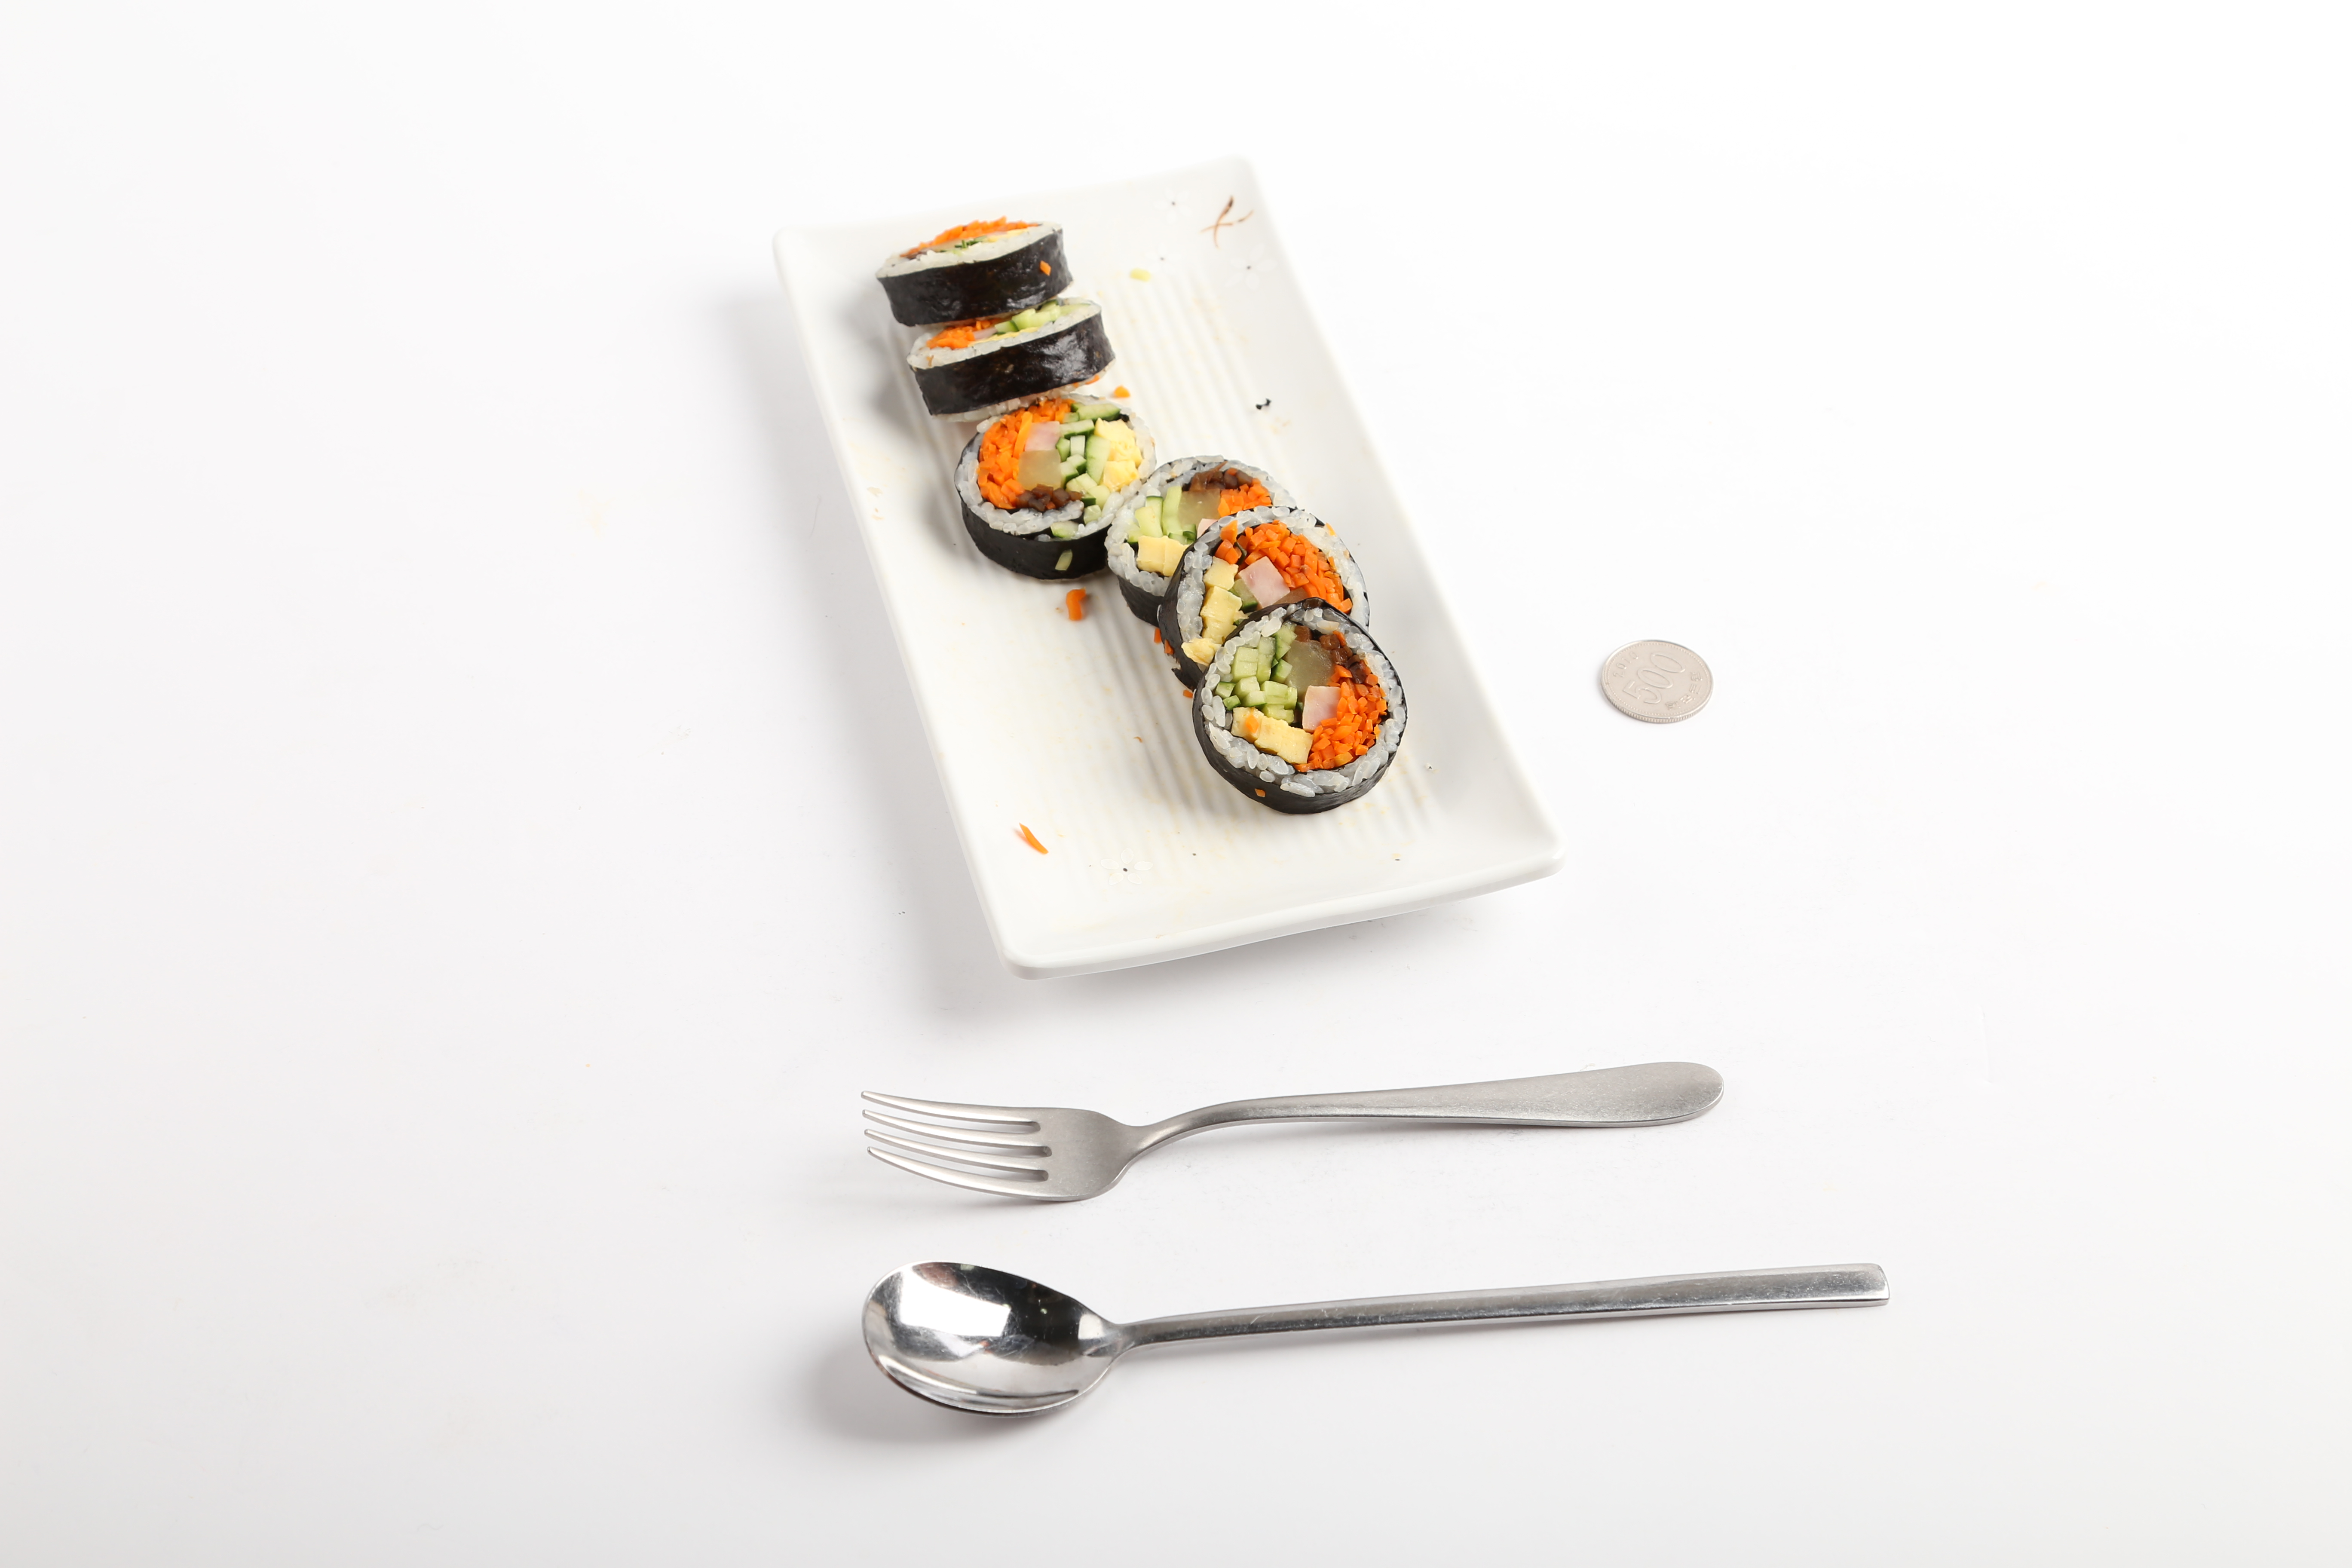dish: (772, 150, 1566, 983)
ref_coin: (1589, 630, 1717, 728)
ref_fork: (856, 1080, 1213, 1204)
ref_spoon: (857, 1251, 1202, 1426)
김밥: (871, 210, 1410, 814)
